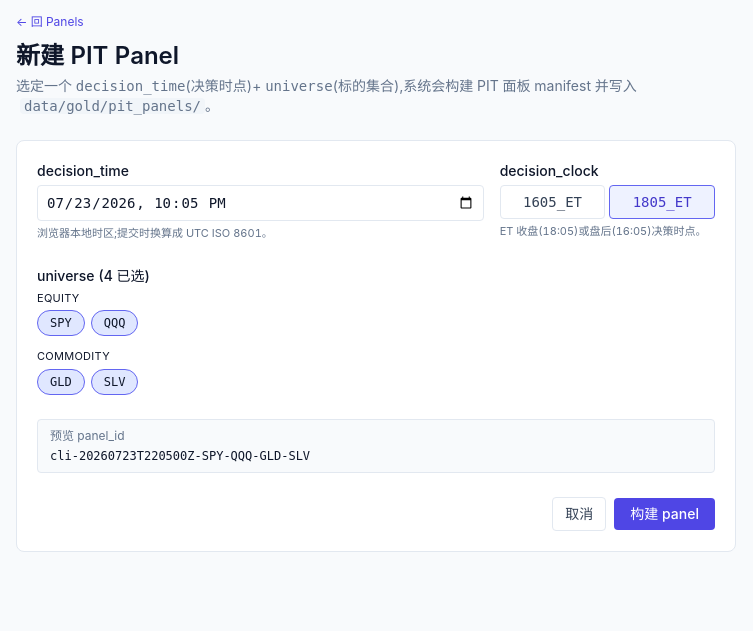
/panels/new (build panel form) › shows an error message with status code when the build endpoint 500s
Expected: the button "GLD" is shown, [37,368,85,394]
Step 1. Click the button "构建 panel" → (665, 514), box [614,498,715,530]
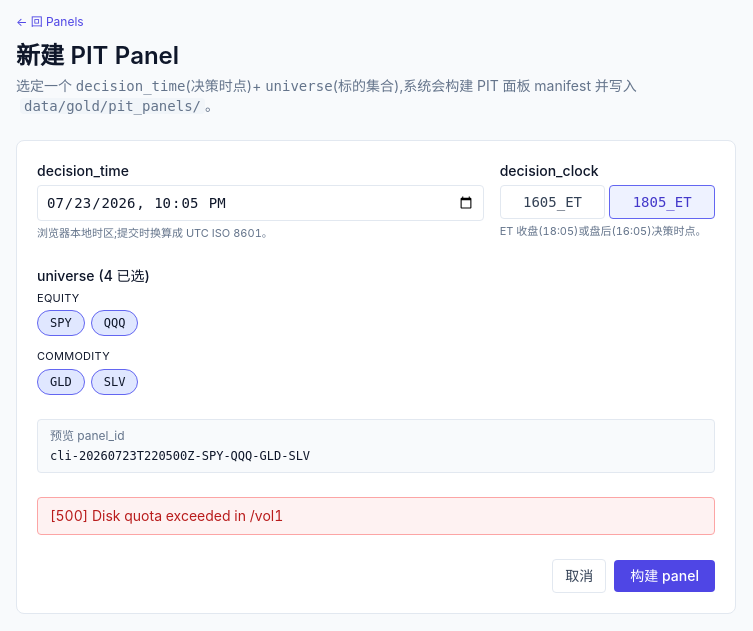
Expected: the text "[500] Disk quota exceeded in /vol1" is shown, [37,496,715,534]
